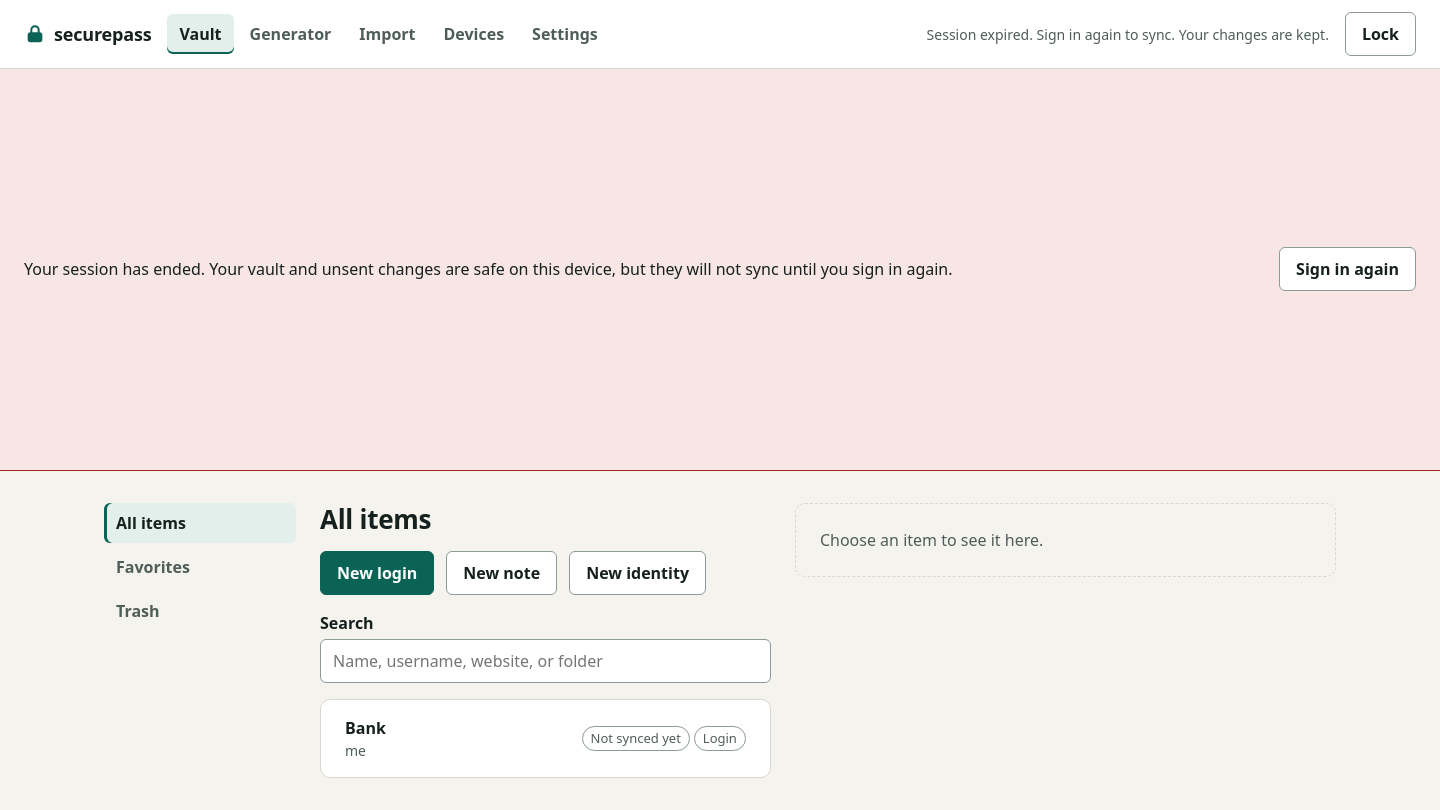
Test: VaultScreen › tells the user the session expired, keeps the changes, and offers to sign in again (covers: AC-22)
The width and height of the screenshot is (1440, 810).
Expected: the text "Session expired. Sign in again to sync. Your changes are kept." is shown, [927, 24, 1329, 44]
What coordinates should you click on to do the following:
click the button "Sign in again"
I would click on:
 (1348, 269)
Its box is [1279, 247, 1416, 291].
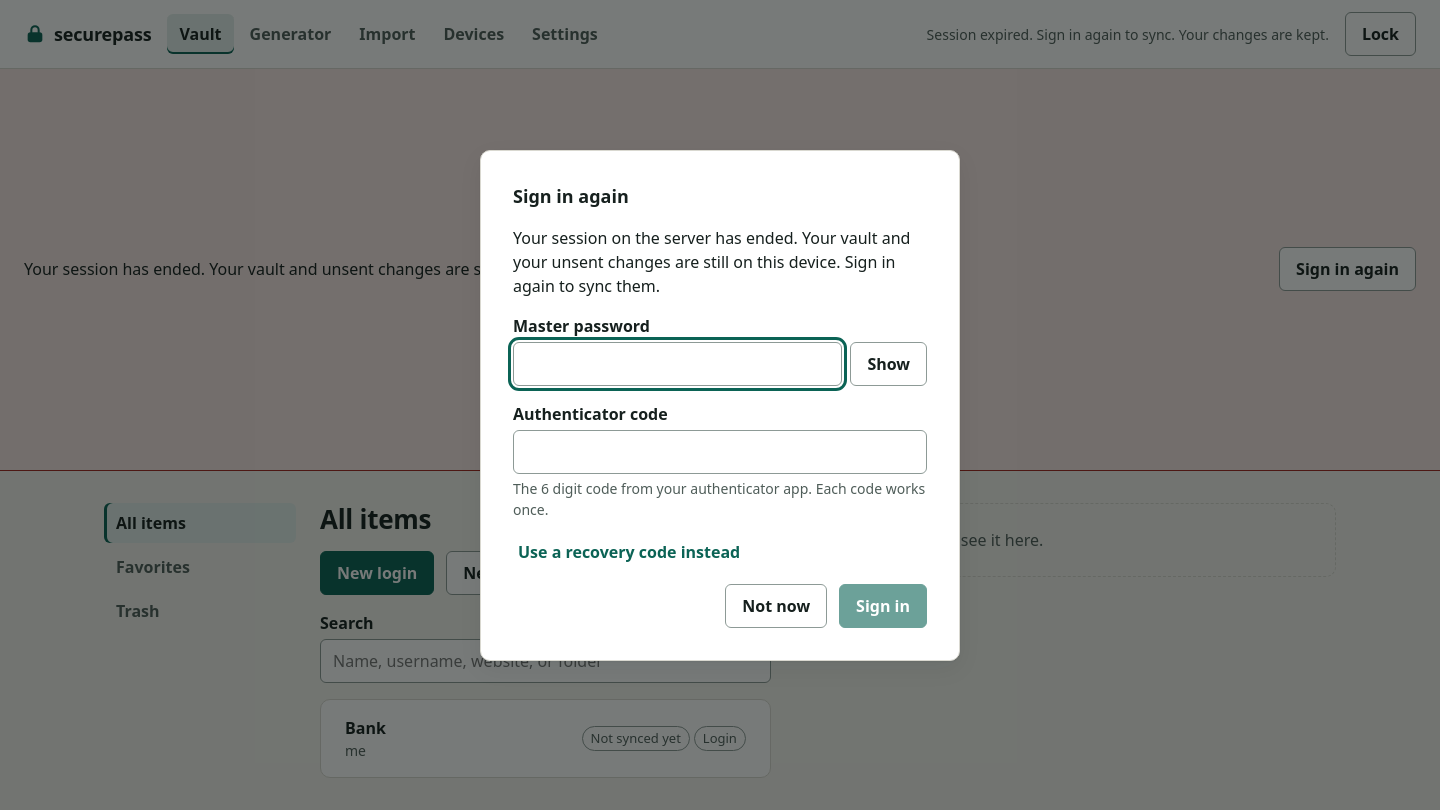
Expected: the dialog "Sign in again" is shown, [480, 150, 960, 660]
